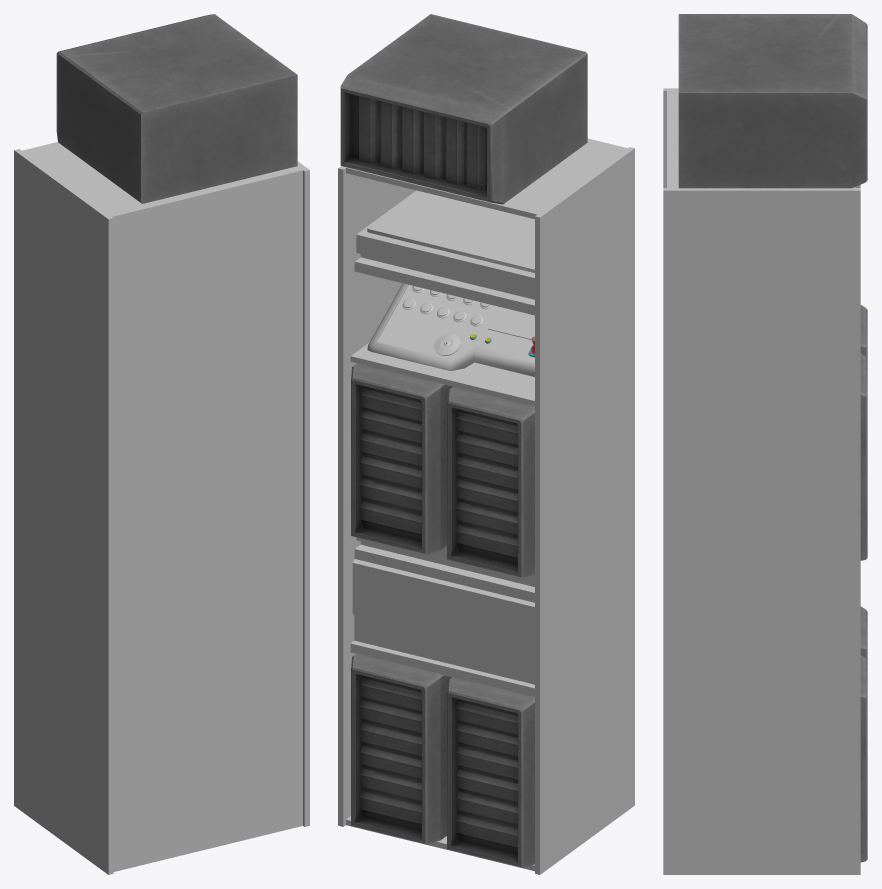
Rendered from sever racks.FBX.
3 renders of one model, left to right at view 1: azimuth 30°, elevation 25°; view 2: azimuth 150°, elevation 25°; view 3: azimuth 270°, elevation 25°, orthographic. The views are drawn at different scales.
Visible parts, largest first — view 1: Box418, PC 014; view 2: Box418, PC 014, PC 012, PC 010, PC 013, PC 011, Control Panel _Lo002, Panel 004; view 3: Box418, PC 014, PC 012, PC 010.
Part boxes in pixels (x1,y1,x2,y2): Box418: (14,142,309,874); PC 014: (56,14,297,203); Box418: (338,138,634,874); PC 014: (340,14,587,204); PC 012: (351,363,452,554); PC 010: (351,653,451,844); PC 013: (447,386,534,577); PC 011: (447,677,534,867); Control Panel _Lo002: (367,283,534,376); Panel 004: (367,191,534,272); Box418: (663,88,860,874); PC 014: (678,14,867,188); PC 012: (860,353,867,560); PC 010: (860,655,867,862).
Bounding box in the file's own units: 0.6432 × 0.5408 × 2.28.
